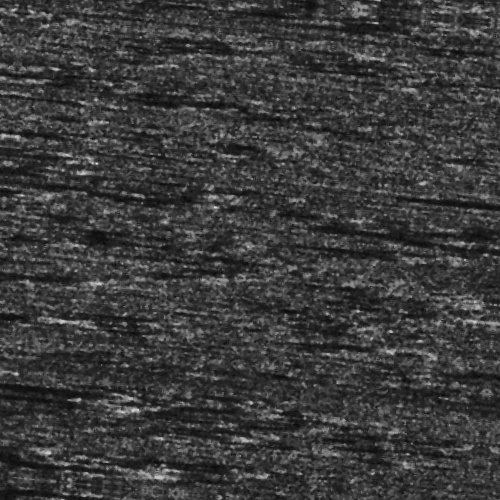object: (97, 413, 190, 422), (5, 333, 98, 342), (128, 405, 159, 408)
shadow: (24, 413, 143, 422), (414, 175, 500, 184), (0, 333, 52, 342), (0, 405, 143, 408)
